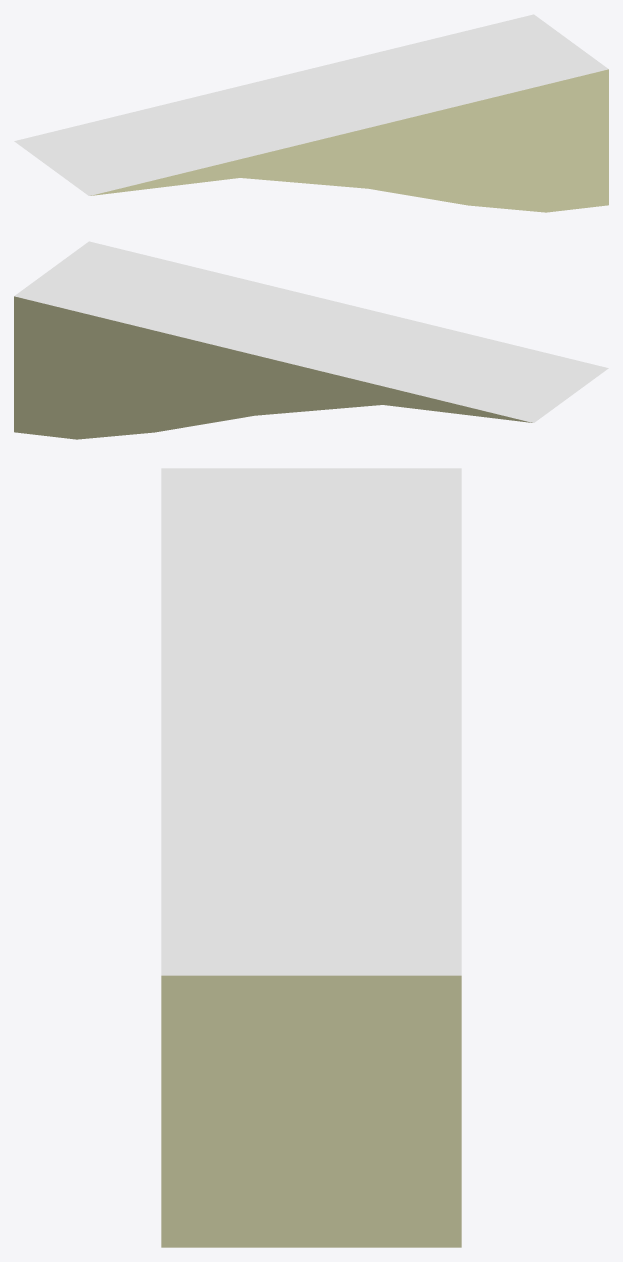
Rendered from Ceiling_Incline_1x3.glb.
The picture shows the model from 3 angles, top to bottom: view 1: azimuth 30°, elevation 25°; view 2: azimuth 150°, elevation 25°; view 3: azimuth 270°, elevation 25°; orthographic projection. The views are drawn at different scales.
Visible parts, largest first — view 1: Ceiling_Incline_1x3; view 2: Ceiling_Incline_1x3; view 3: Ceiling_Incline_1x3.
Boxes of the visible parts, x1,y1,x2,y2 form: Ceiling_Incline_1x3: (14,14,608,212); Ceiling_Incline_1x3: (14,241,608,439); Ceiling_Incline_1x3: (161,468,461,1247).
Size of the model in its own units: 400 by 100 by 100.
